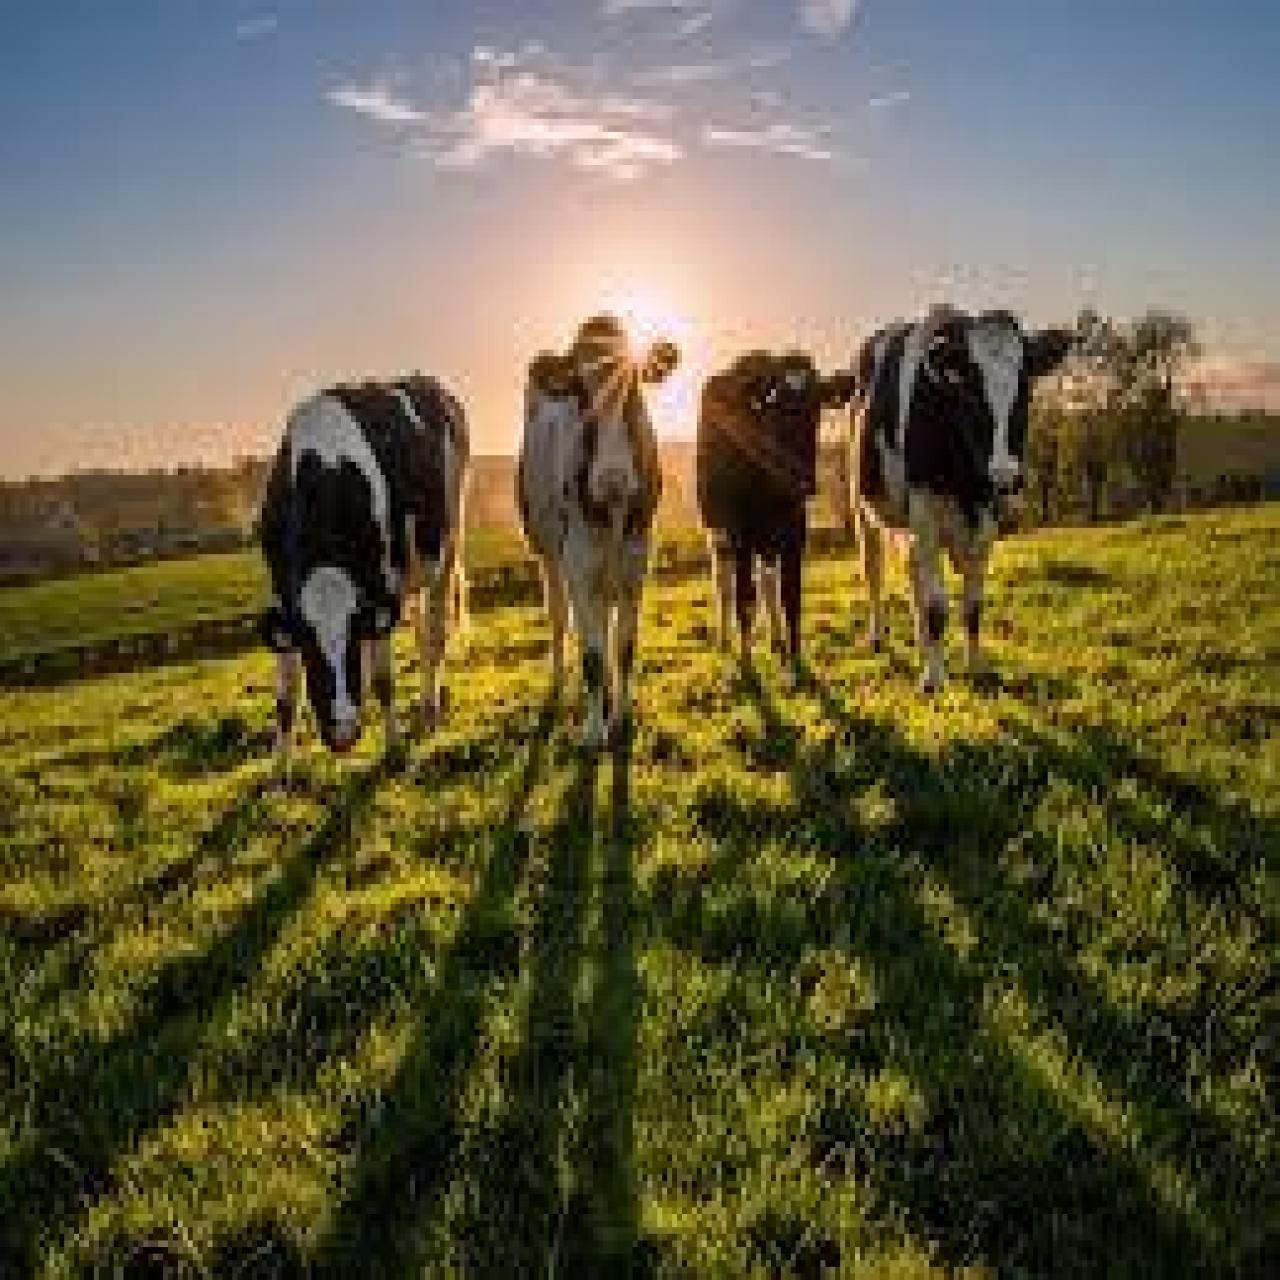cow: (252, 380, 470, 782), (850, 309, 1073, 686), (519, 320, 678, 742), (697, 356, 850, 660)
